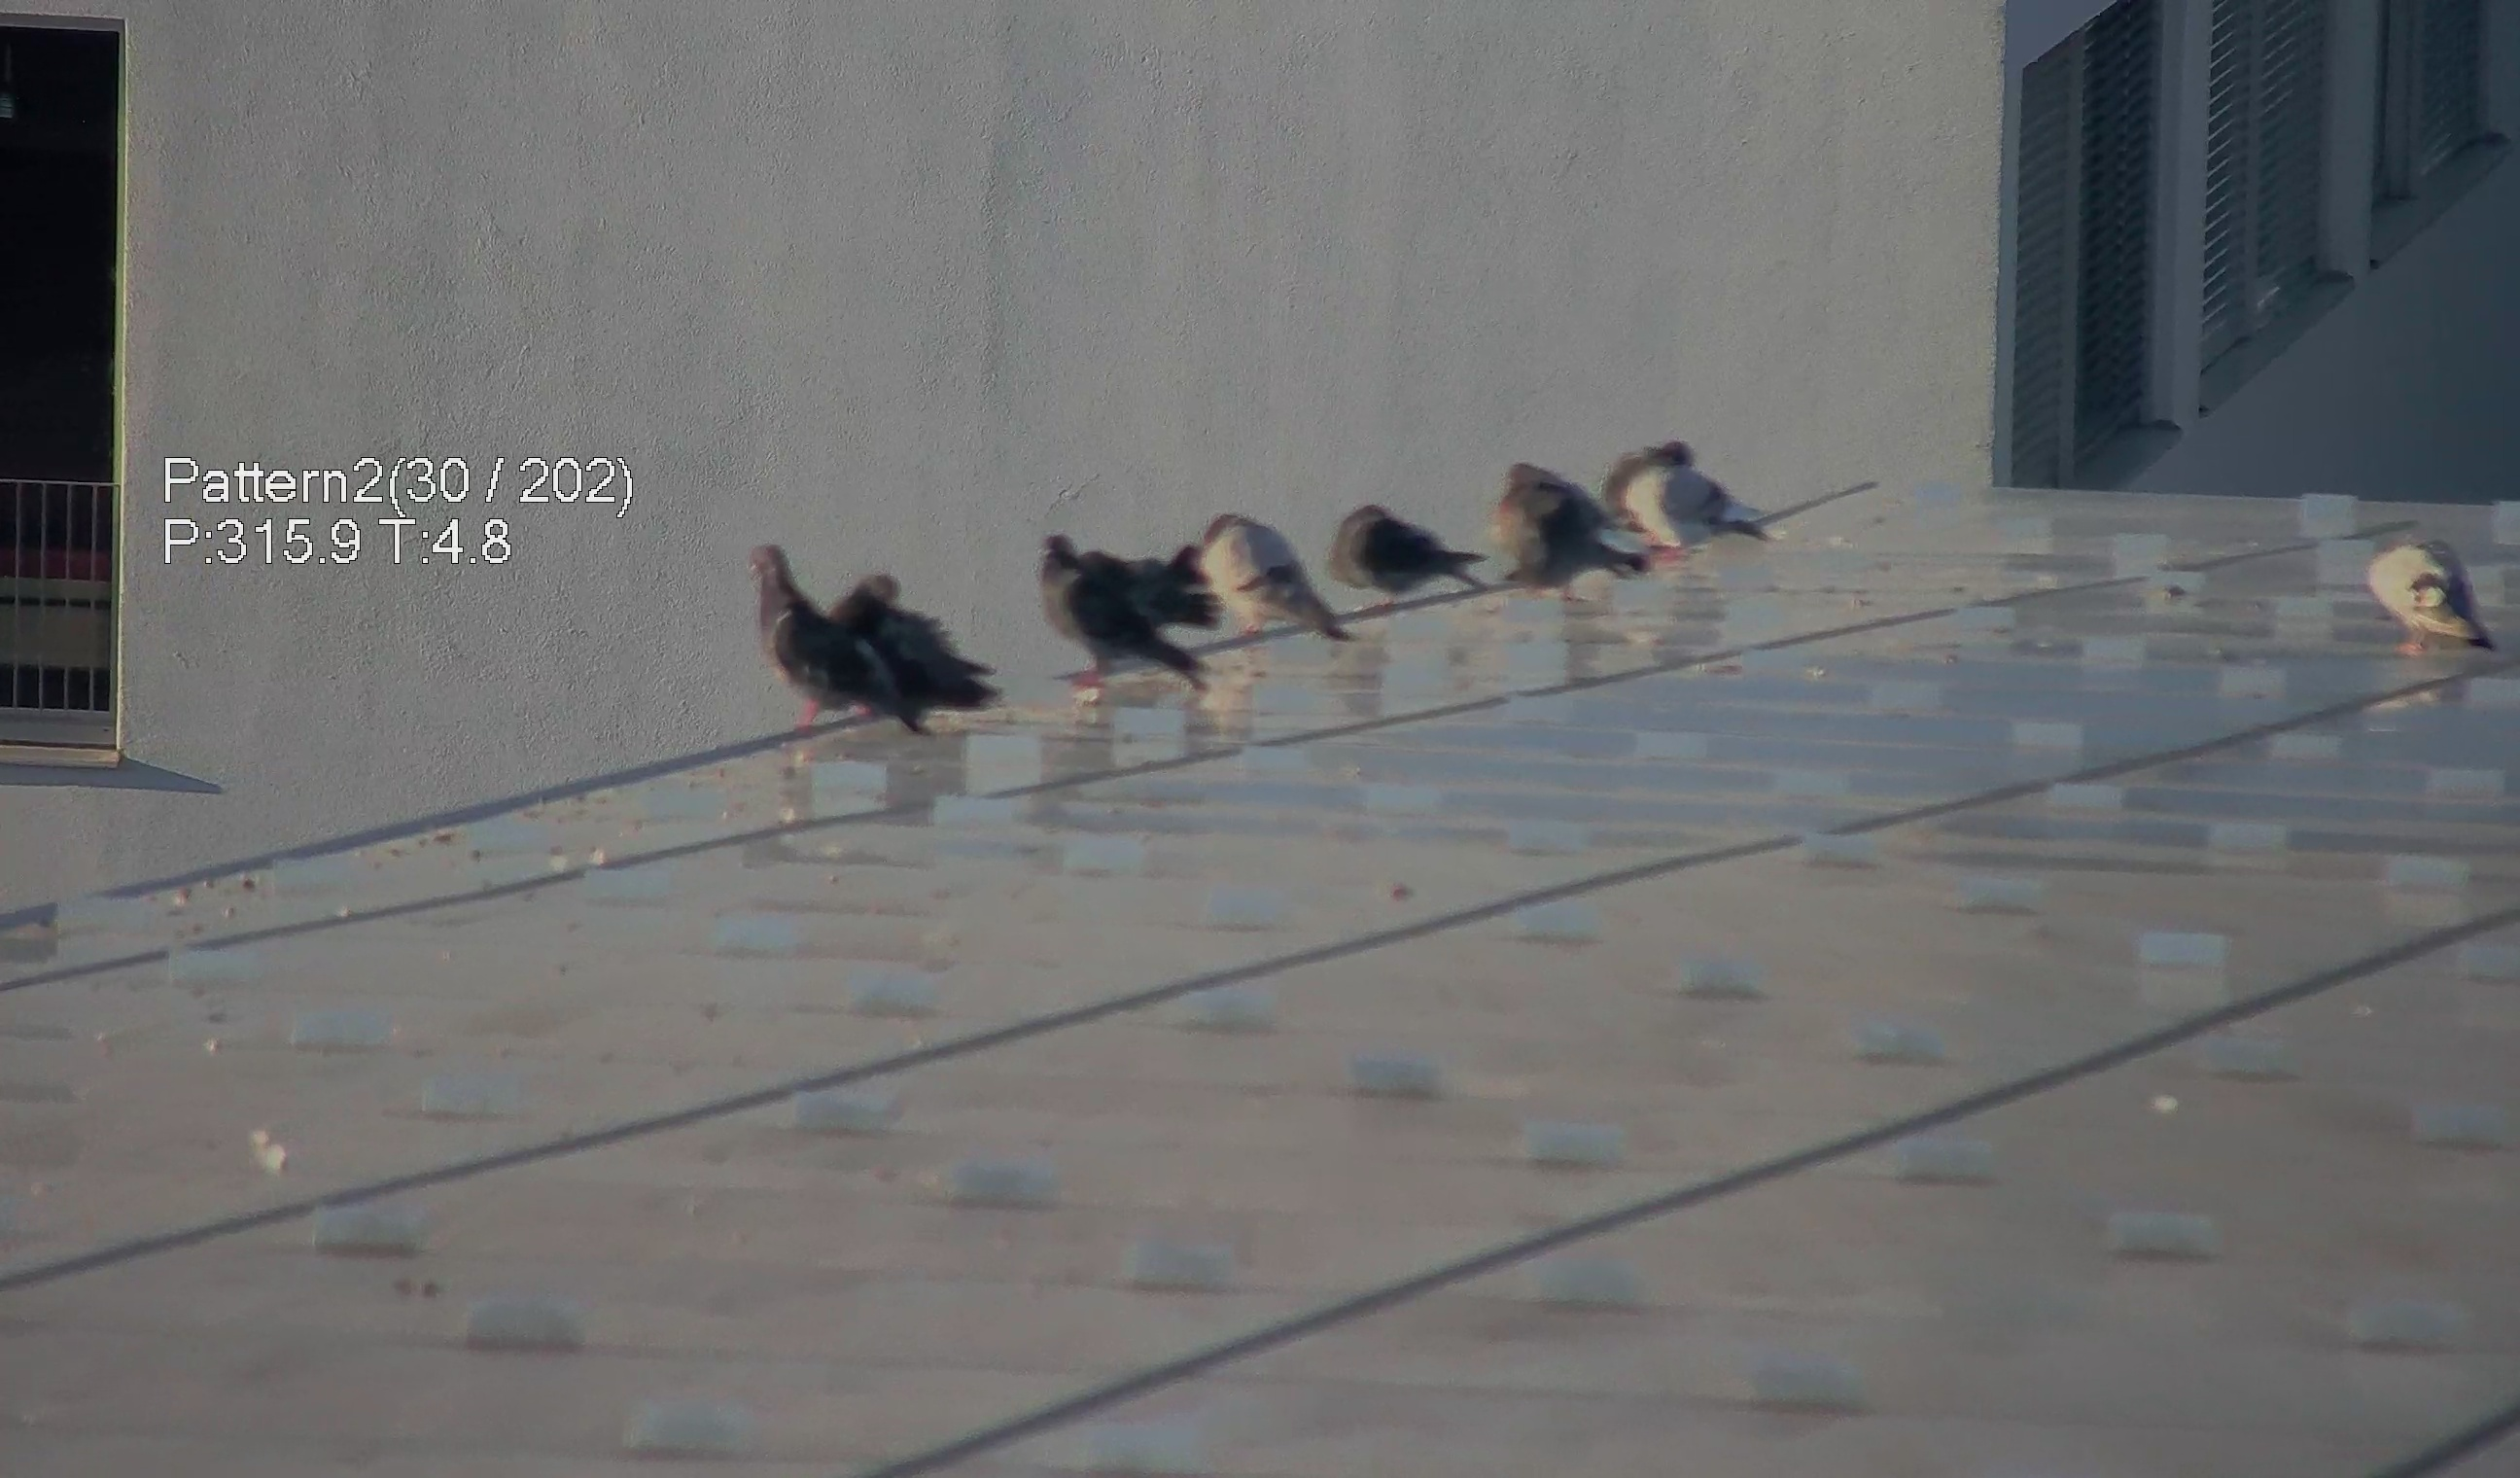Pigeon: (719, 540, 953, 743), (1038, 494, 1236, 695), (821, 568, 1004, 721), (1604, 426, 1799, 560), (1189, 507, 1361, 649), (1486, 450, 1662, 586), (2358, 523, 2515, 662), (1326, 493, 1493, 595)
